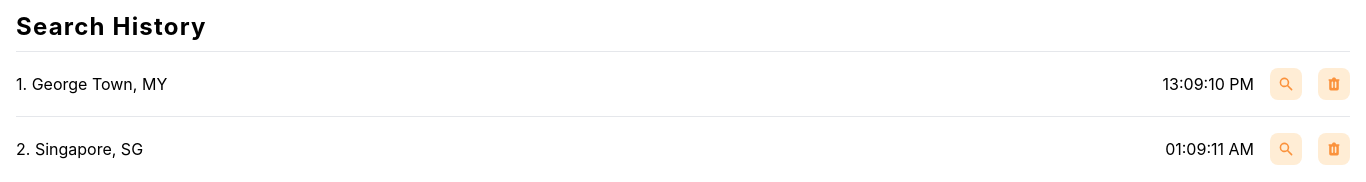
Test: WeatherHistories works correctly › after search the selected weather history, it moves to top
This screenshot has width=1366, height=182.
Expected: the text "1. George Town, MY" is shown, [16,72,167,96]
Click the button named "search" next to "01:09:11 AM": (1286, 149) [1270,133,1302,165]
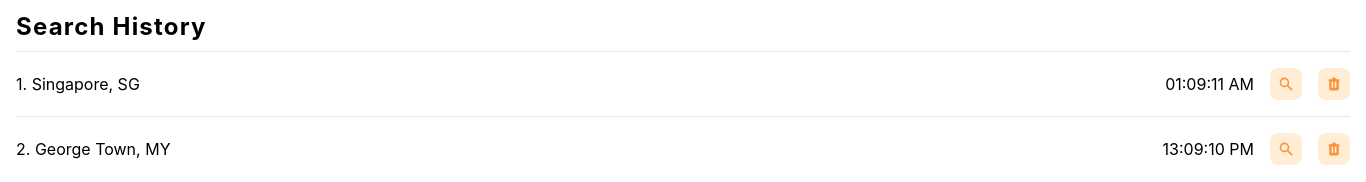
Expected: the text "1. Singapore, SG" is shown, [16,72,140,96]
